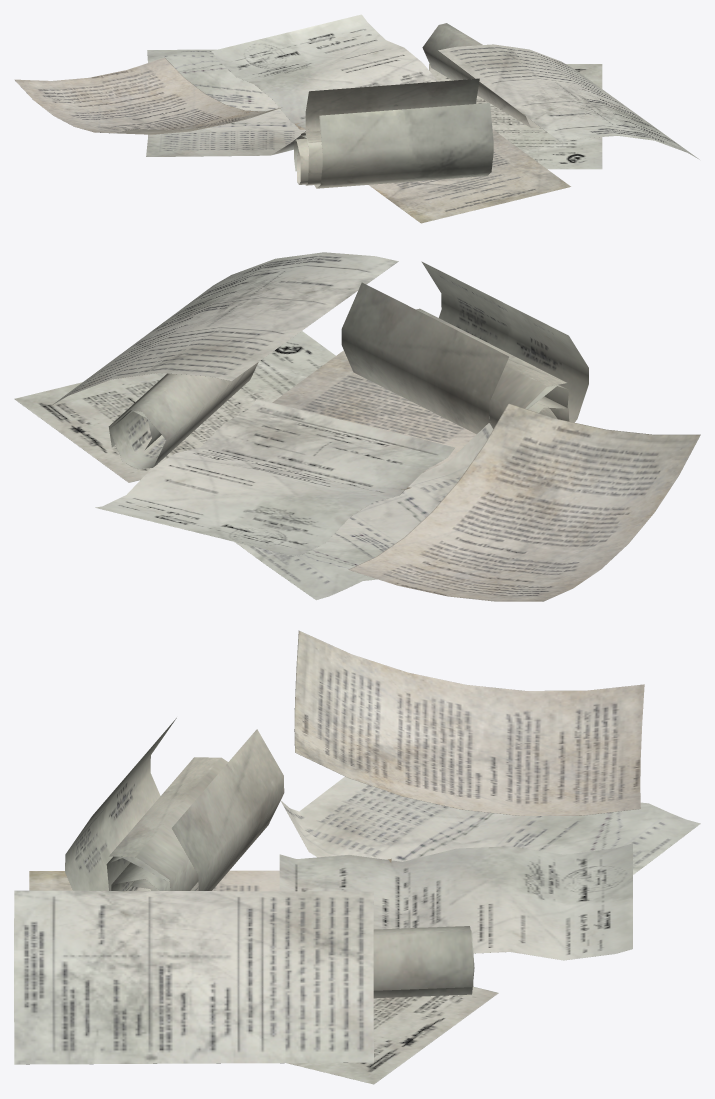
Rendered from Bunch_of_Papers_A.obj.
3 views of the same model, one above another, from view 1: azimuth 30°, elevation 25°; view 2: azimuth 150°, elevation 25°; view 3: azimuth 270°, elevation 25° (orthographic). The views are drawn at different scales.
Visible parts, largest first — view 1: Bunch_of_Papers_A; view 2: Bunch_of_Papers_A; view 3: Bunch_of_Papers_A.
Boxes of the visible parts, x1,y1,x2,y2 form: Bunch_of_Papers_A: (14, 14, 699, 223); Bunch_of_Papers_A: (14, 252, 700, 601); Bunch_of_Papers_A: (14, 630, 700, 1084).
Bounding box in the file's own units: 40.83 × 6.58 × 33.93.
